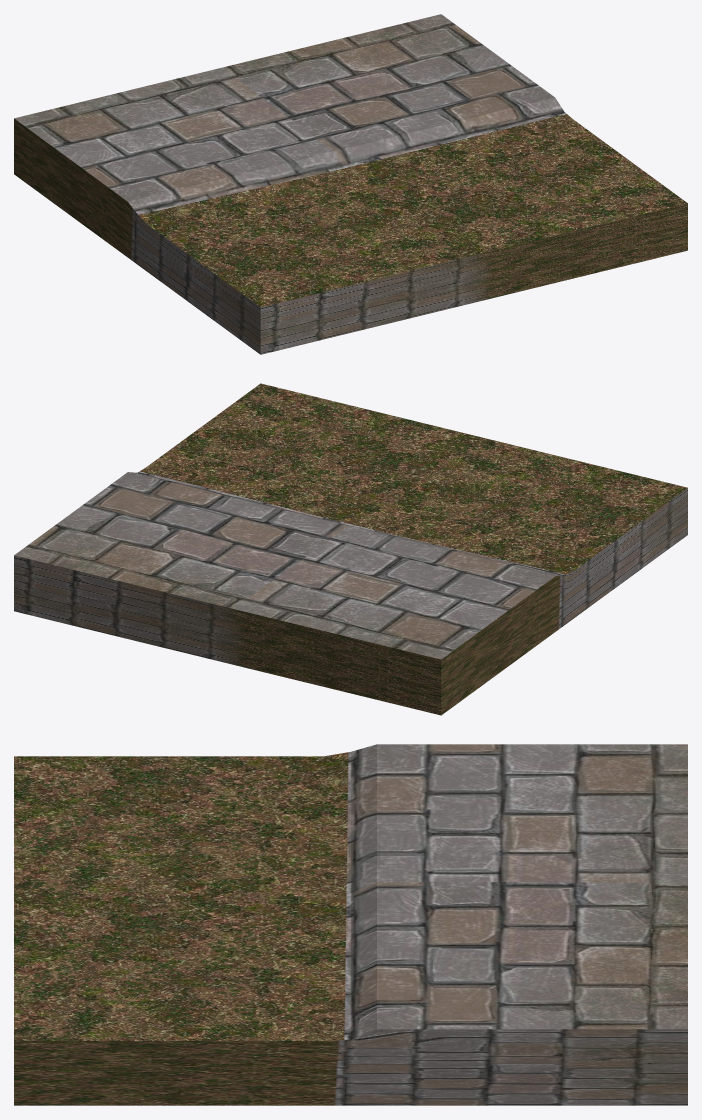
Rendered from ground_stone_to_dirt_01.fbx.
The picture shows the model from 3 angles, top to bottom: view 1: azimuth 30°, elevation 25°; view 2: azimuth 150°, elevation 25°; view 3: azimuth 270°, elevation 25°; orthographic projection. The views are drawn at different scales.
Visible parts, largest first — view 1: 4x4 Dirt to Stone Floor.002; view 2: 4x4 Dirt to Stone Floor.002; view 3: 4x4 Dirt to Stone Floor.002.
Boxes of the visible parts, x1,y1,x2,y2 form: 4x4 Dirt to Stone Floor.002: [14, 14, 687, 354]; 4x4 Dirt to Stone Floor.002: [14, 383, 687, 715]; 4x4 Dirt to Stone Floor.002: [14, 744, 687, 1105].
Size of the model in its own units: 400 by 50 by 400.
Materials: 1 (1 with a texture image).
